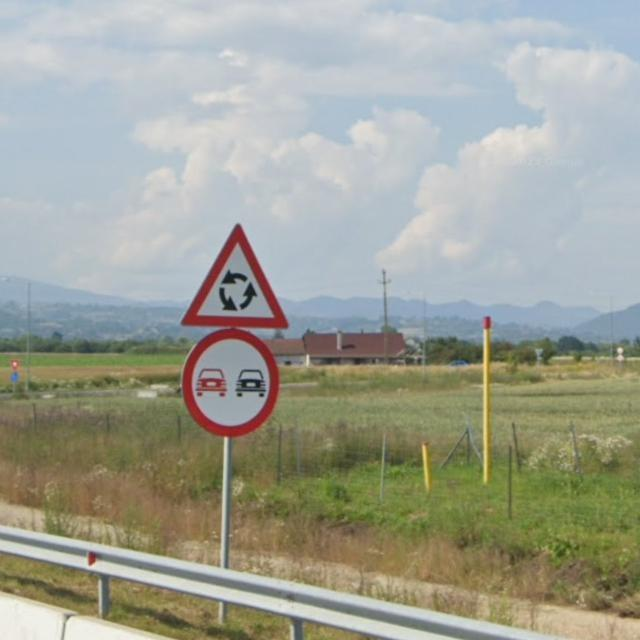forb_overtake: (181, 329, 280, 438)
